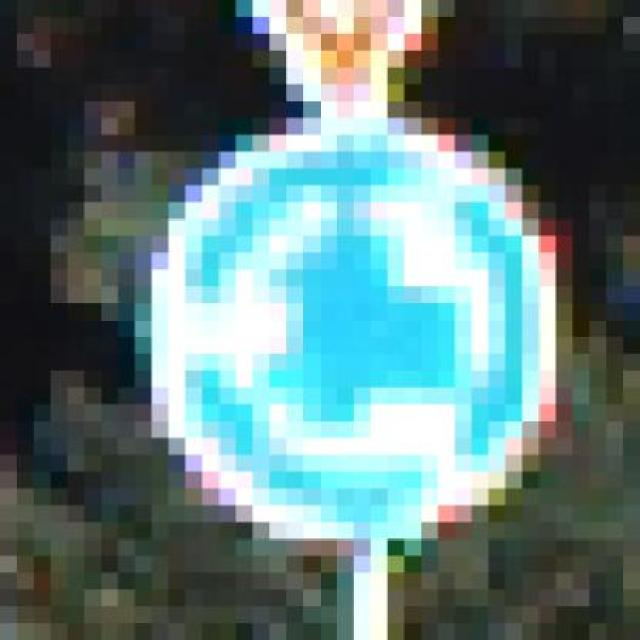Round-About: (101, 101, 590, 573)
